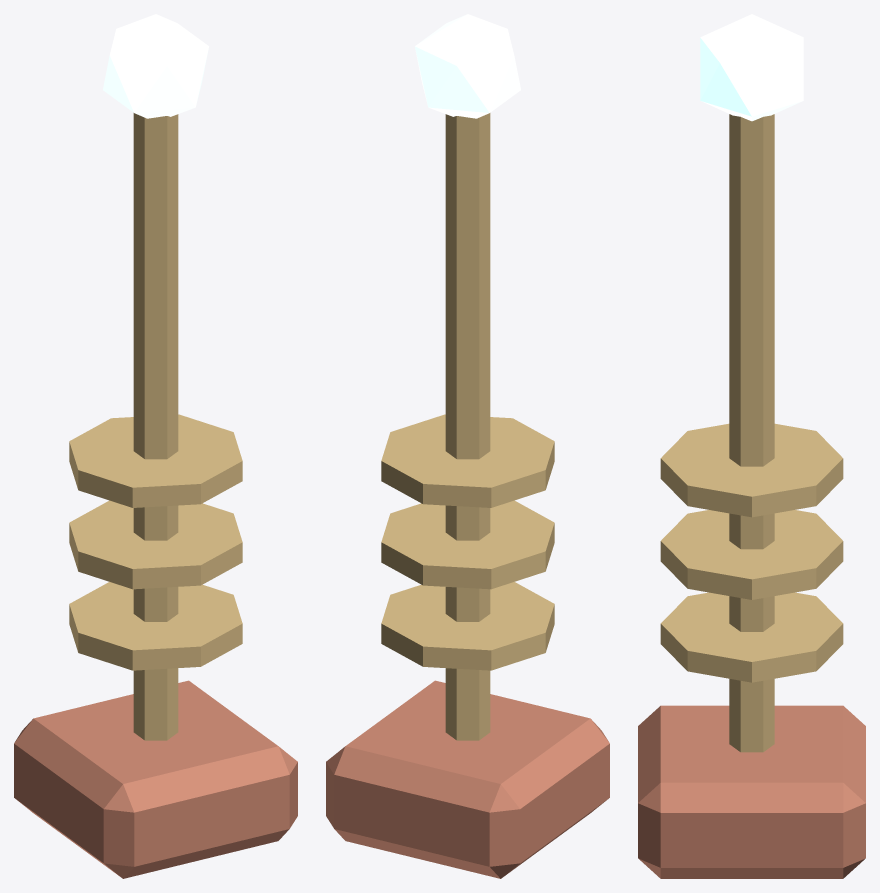
Rendered from TH_Top_Antenna.fbx.
3 renders of one model, left to right at view 1: azimuth 30°, elevation 25°; view 2: azimuth 150°, elevation 25°; view 3: azimuth 270°, elevation 25°, orthographic.
Parts seen in each view (by area): view 1: TH_Top_Antenna; view 2: TH_Top_Antenna; view 3: TH_Top_Antenna.
Boxes of the visible parts, box(x1,y1,x2,y2) form: TH_Top_Antenna: box(14, 14, 297, 878); TH_Top_Antenna: box(326, 14, 609, 878); TH_Top_Antenna: box(638, 14, 865, 878).
Size of the model in its own units: 0.3 by 1.2 by 0.3.
